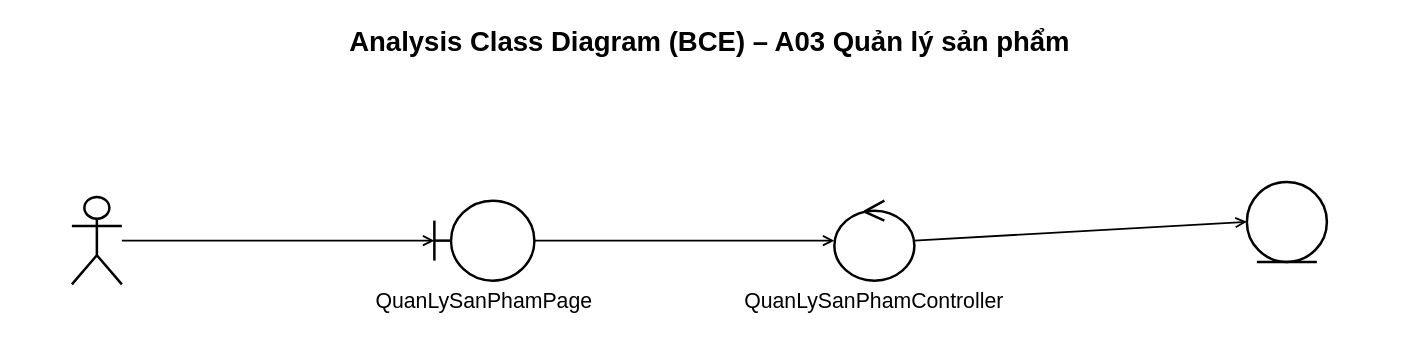
Image size: 1418x339. Some labels were removed from this diagram. Here are the shapes that lost their labels. From the top down, the box of each, then its label:
(70, 195, 122, 285): Quản trị viên
(1245, 180, 1328, 262): SanPham
